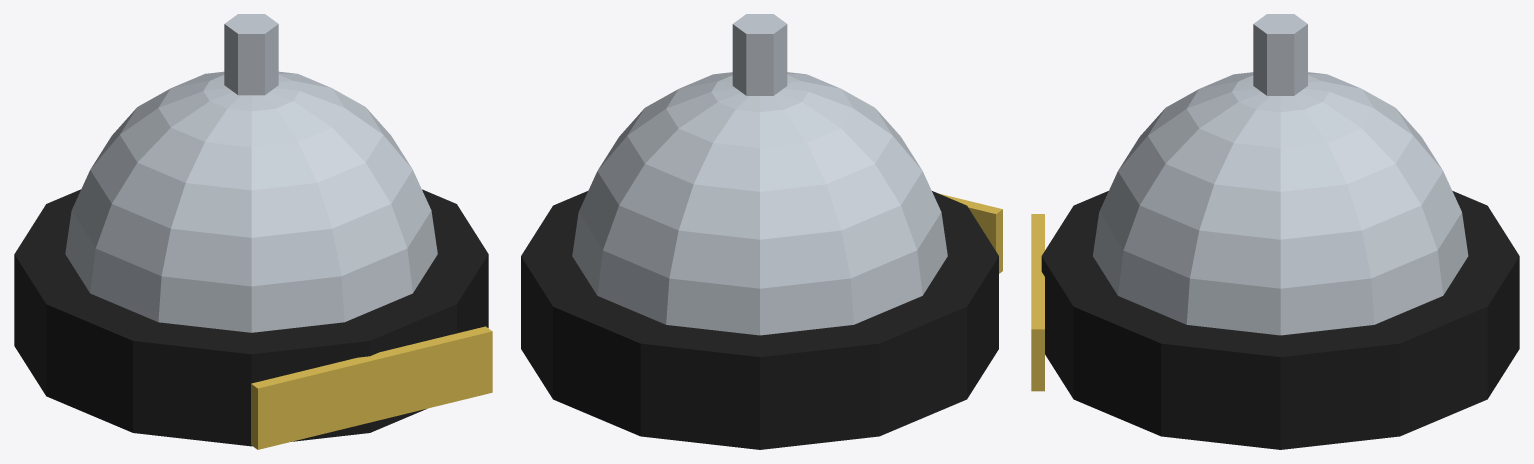
File: next_bell.glb
3 views of the same model, side by side, from view 1: azimuth 30°, elevation 25°; view 2: azimuth 150°, elevation 25°; view 3: azimuth 270°, elevation 25° (orthographic).
Visible parts, largest first — view 1: dome_dental_chrome, base_bell_base, plate_plate_gold, button_dental_chrome; view 2: dome_dental_chrome, base_bell_base, button_dental_chrome, plate_plate_gold; view 3: dome_dental_chrome, base_bell_base, button_dental_chrome, plate_plate_gold.
Boxes of the visible parts, <box> form: dome_dental_chrome: <box>65,71,437,332</box>; base_bell_base: <box>14,189,488,446</box>; plate_plate_gold: <box>251,326,492,449</box>; button_dental_chrome: <box>224,14,278,95</box>; dome_dental_chrome: <box>572,72,947,335</box>; base_bell_base: <box>521,191,998,449</box>; button_dental_chrome: <box>732,14,787,95</box>; plate_plate_gold: <box>939,193,1002,273</box>; dome_dental_chrome: <box>1093,72,1468,335</box>; base_bell_base: <box>1041,191,1519,449</box>; button_dental_chrome: <box>1253,14,1307,95</box>; plate_plate_gold: <box>1031,214,1044,391</box>.
Size of the model in its own units: 0.14 by 0.105 by 0.143.
